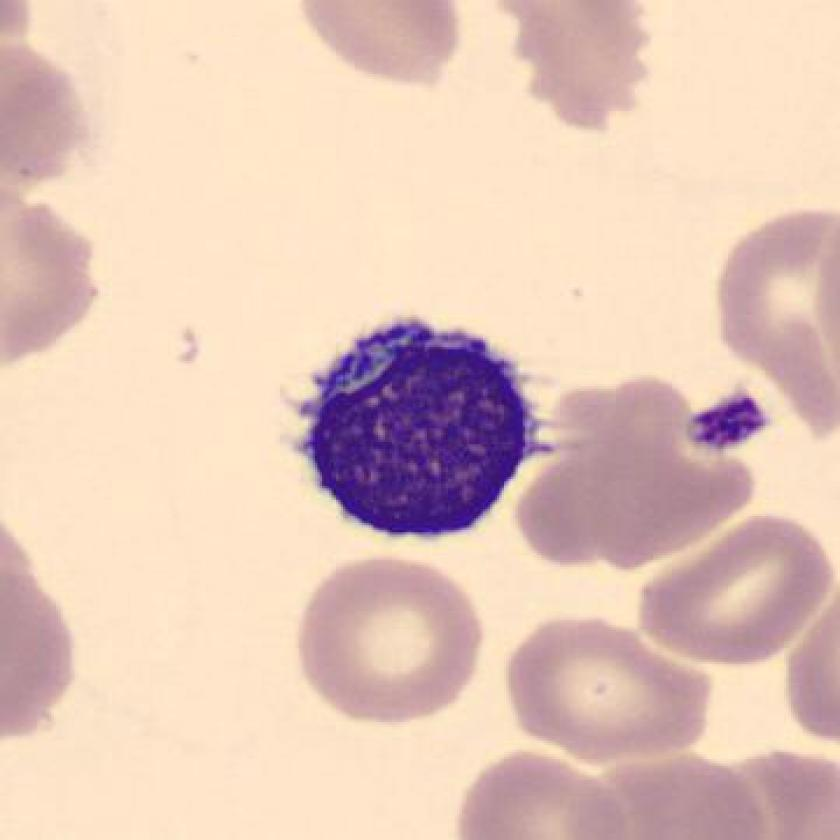lymphocyte: (283, 302, 561, 563)
